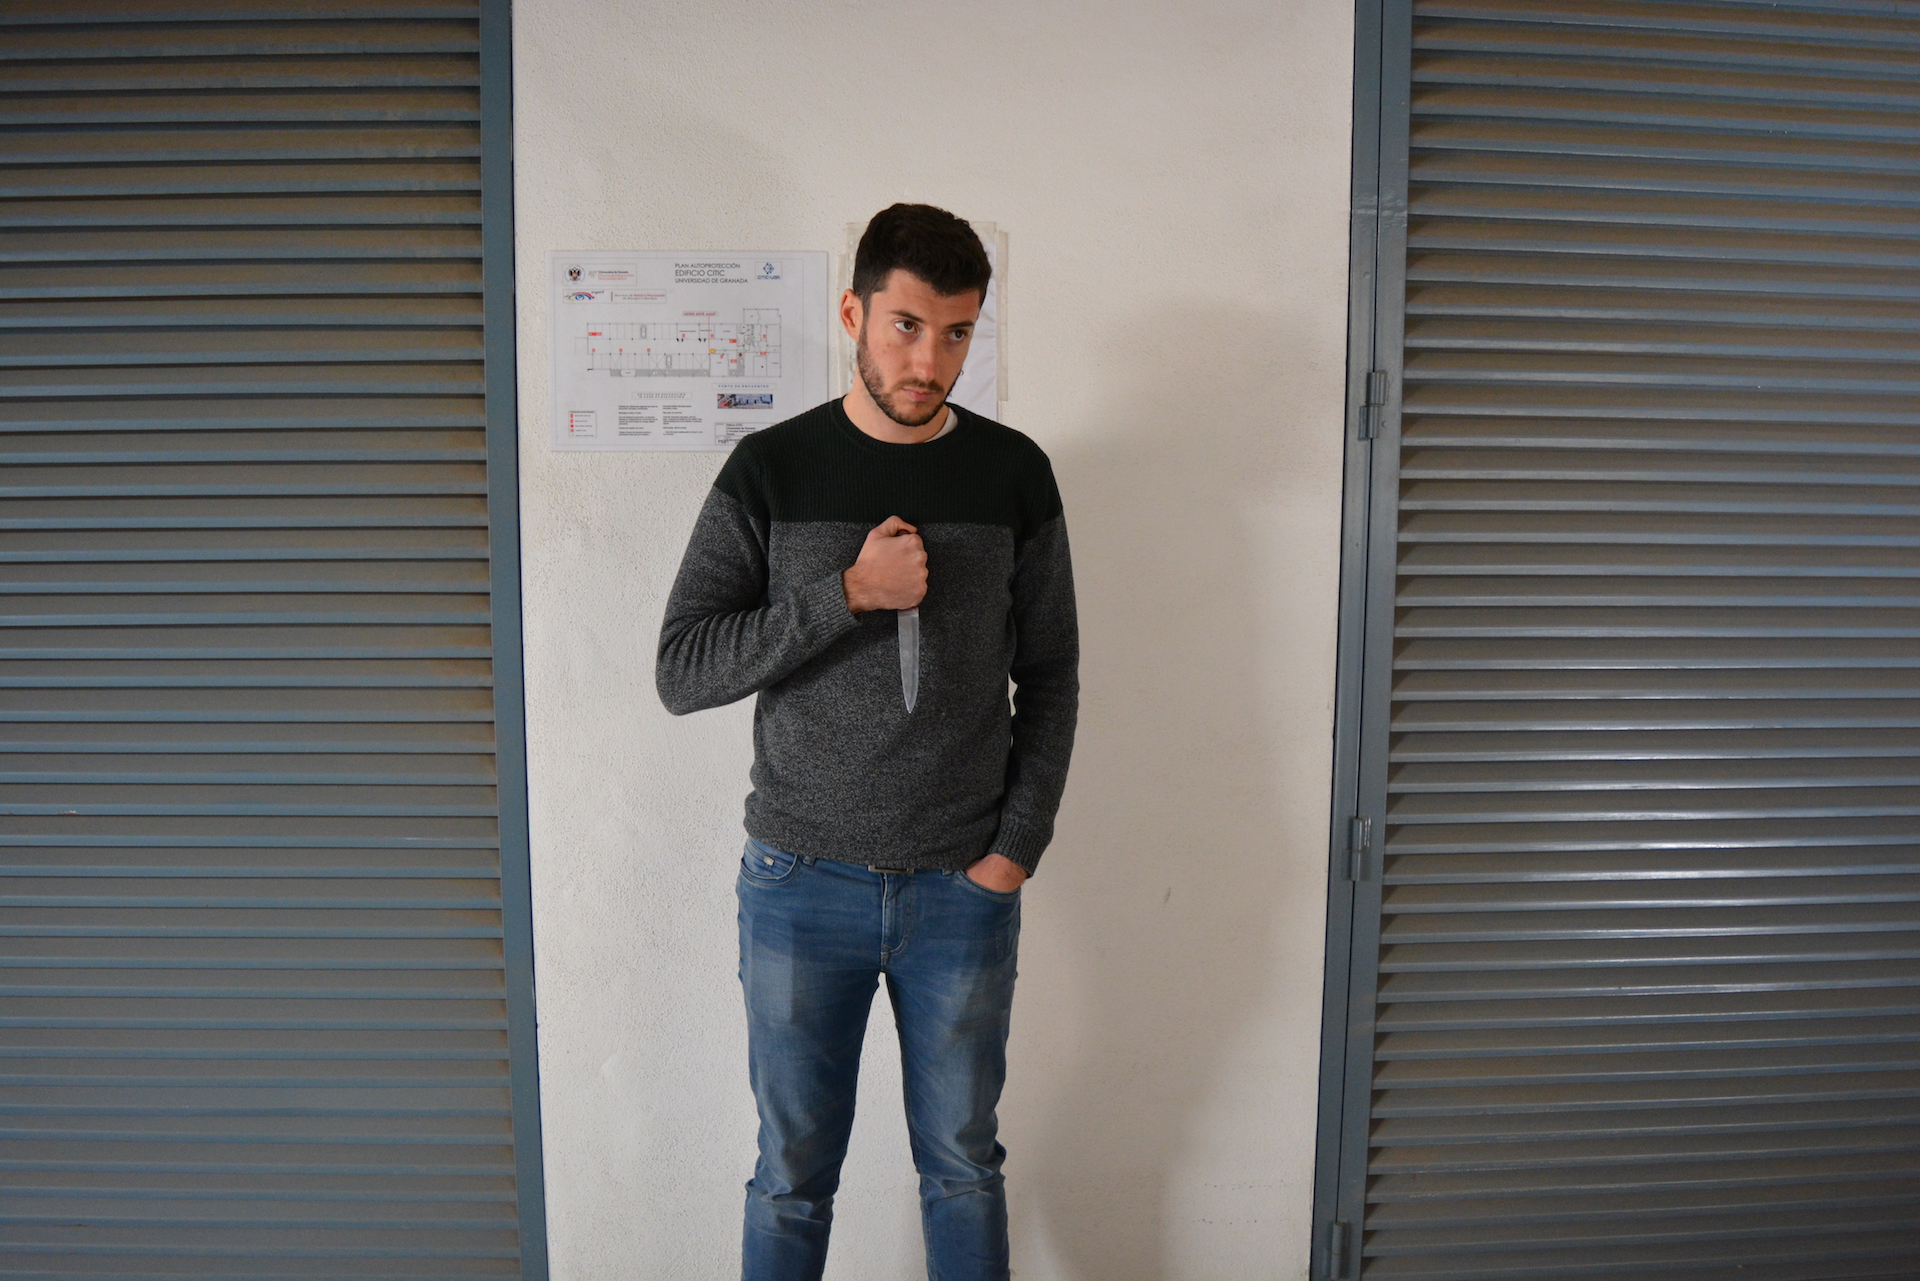knife: (878, 510, 934, 721)
